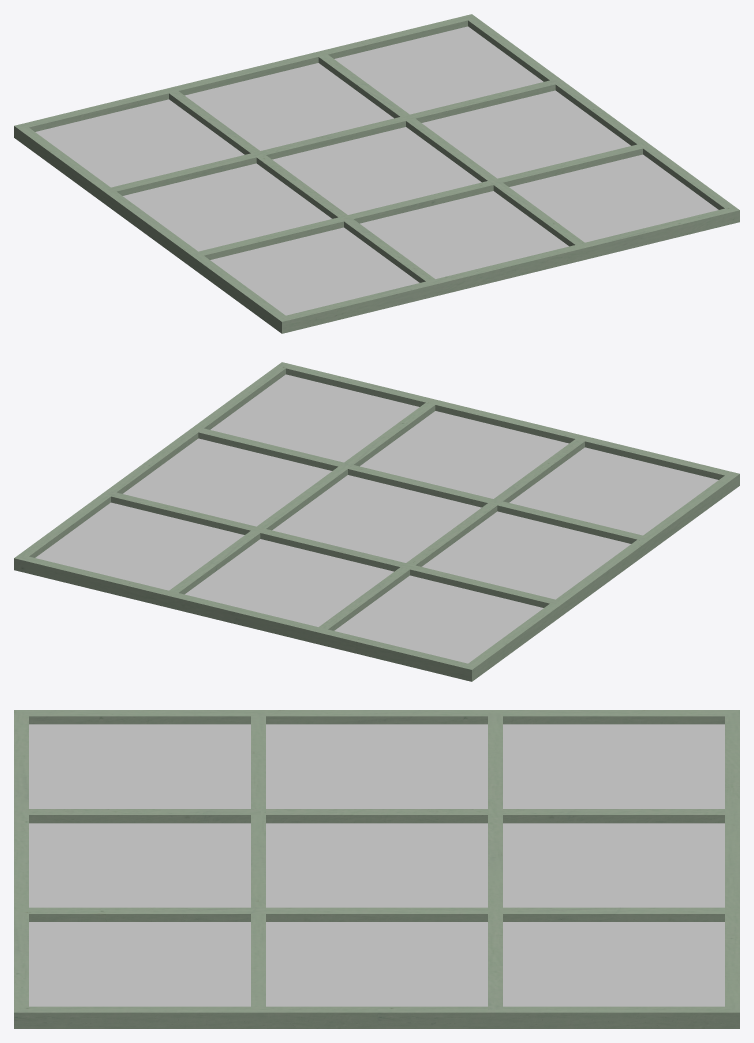
File: SM_Ceiling_Window_1.fbx
The picture shows the model from 3 angles, top to bottom: view 1: azimuth 30°, elevation 25°; view 2: azimuth 150°, elevation 25°; view 3: azimuth 270°, elevation 25°; orthographic projection. The views are drawn at different scales.
Parts seen in each view (by area): view 1: SM_Ceiling_Window_1; view 2: SM_Ceiling_Window_1; view 3: SM_Ceiling_Window_1.
Part boxes in pixels (box(x1,y1,x2,y2)): SM_Ceiling_Window_1: box(14, 14, 739, 333); SM_Ceiling_Window_1: box(14, 362, 739, 681); SM_Ceiling_Window_1: box(14, 710, 739, 1028).
Bounding box in the file's own units: 246 × 249 × 6.12.
Materials: 2 (1 with a texture image).
